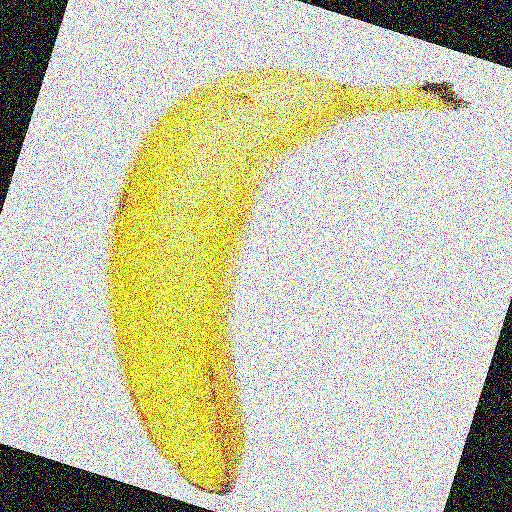fruit: (415, 65, 512, 140)
